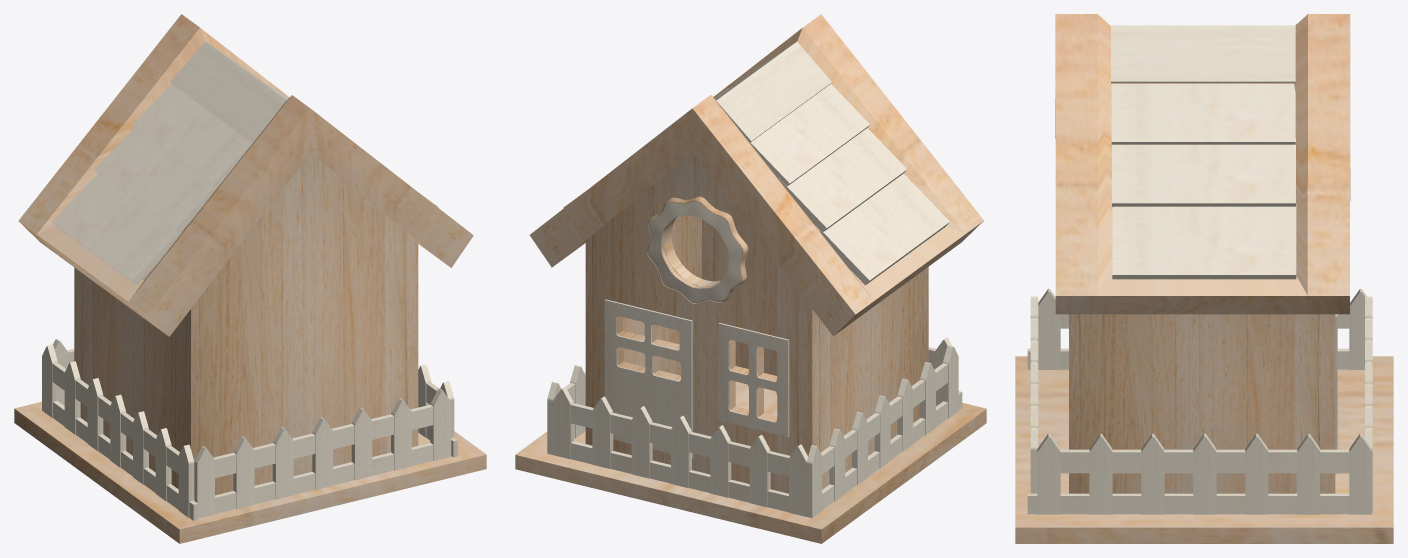
Rendered from bird.glb.
3 views of the same model, side by side, from view 1: azimuth 30°, elevation 25°; view 2: azimuth 150°, elevation 25°; view 3: azimuth 270°, elevation 25° (orthographic). The views are drawn at different scales.
Parts seen in each view (by area): view 1: wooden_bird_nest; view 2: wooden_bird_nest; view 3: wooden_bird_nest.
Part boxes in pixels (x1,y1,x2,y2): wooden_bird_nest: [14, 14, 486, 543]; wooden_bird_nest: [515, 14, 986, 543]; wooden_bird_nest: [1015, 14, 1393, 543].
Size of the model in its own units: 0.238 by 0.269 by 0.2087.
Materials: 1 (1 with a texture image).
